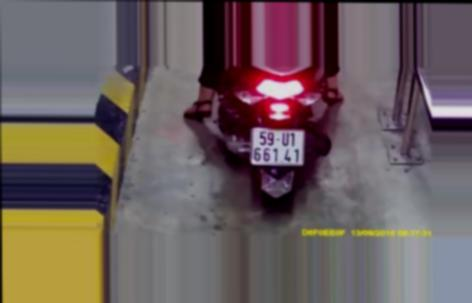License_Plate: (245, 124, 308, 170)
